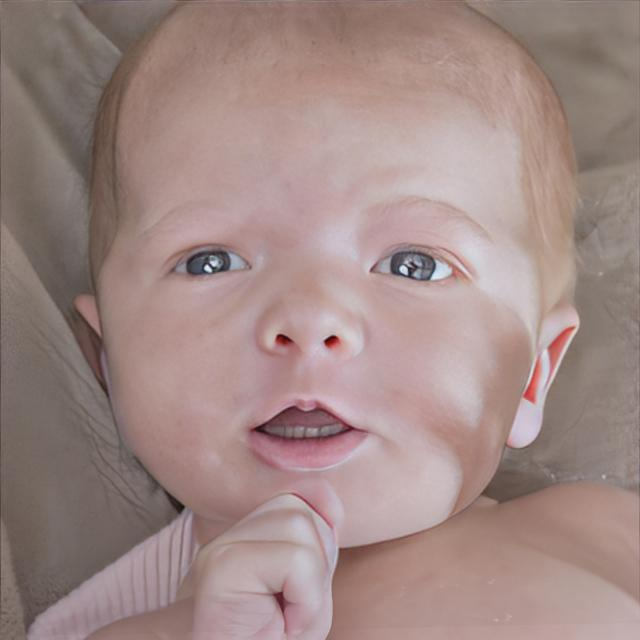surprise: (93, 0, 545, 551)
